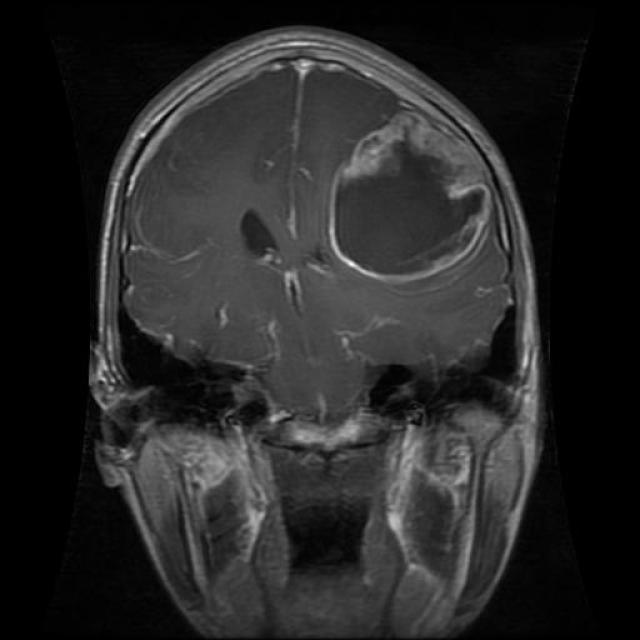glioma: (329, 105, 495, 283)
